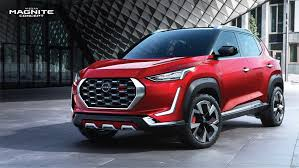Nissan: (72, 28, 273, 136)
